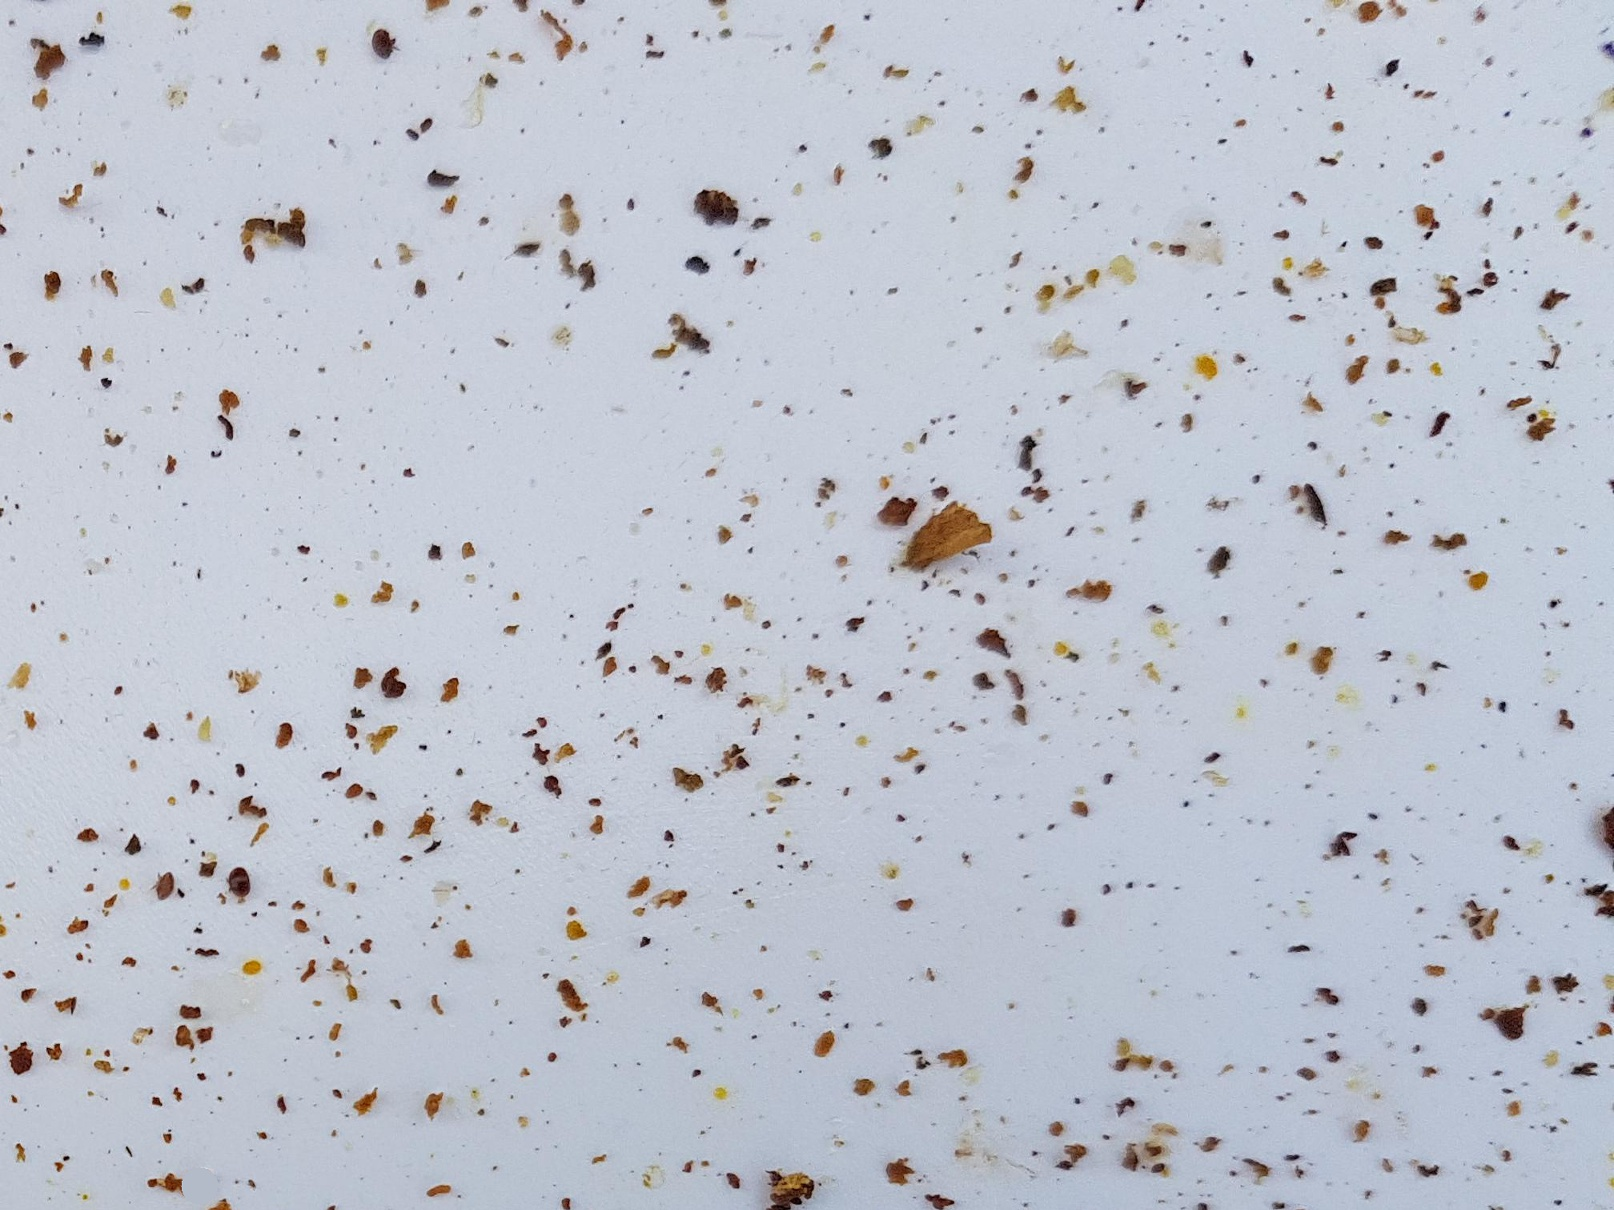Varroa: (145, 866, 184, 904), (225, 863, 259, 897), (362, 24, 397, 58)
